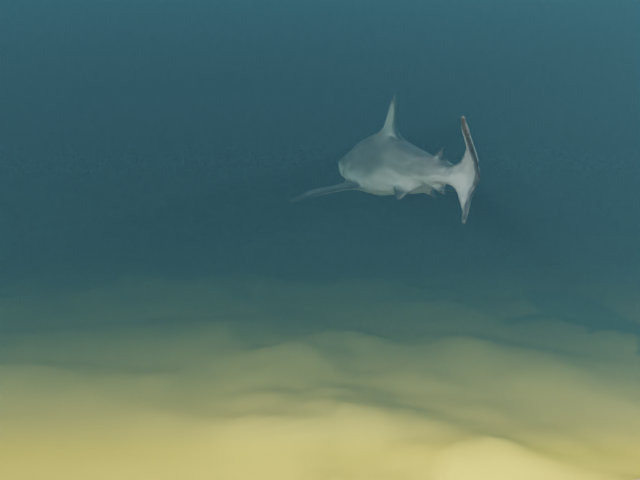Carribean Shark.001: (290, 95, 480, 223)
